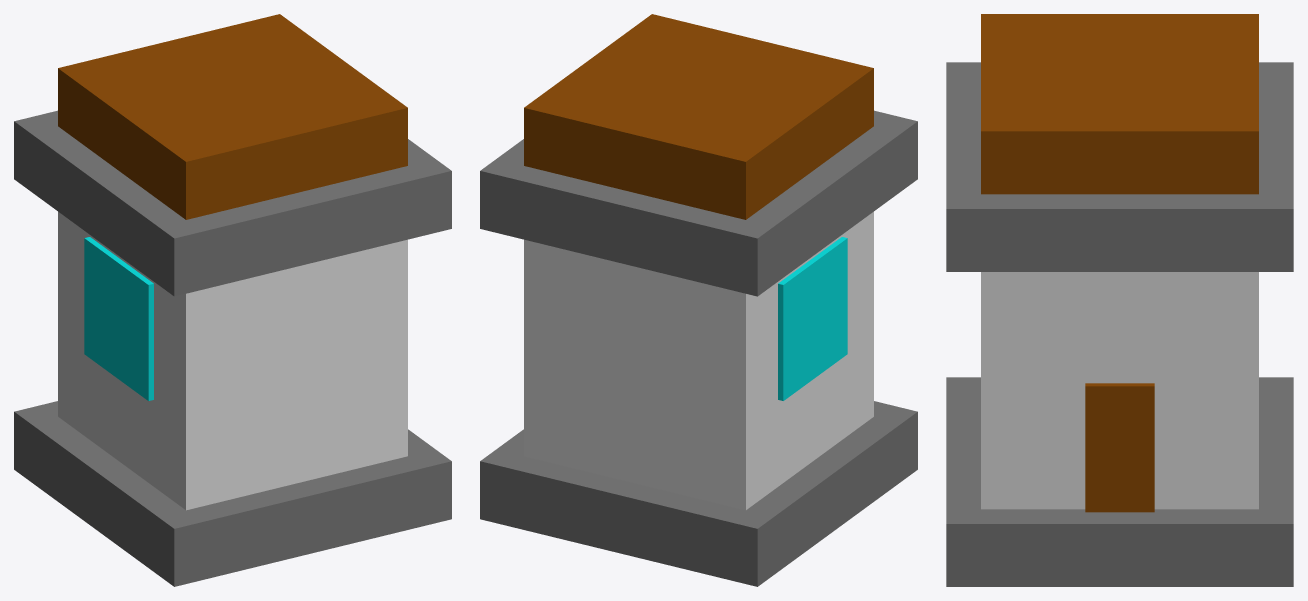
Rendered from house.fbx.
The picture shows the model from 3 angles, left to right: view 1: azimuth 30°, elevation 25°; view 2: azimuth 150°, elevation 25°; view 3: azimuth 270°, elevation 25°; orthographic projection. The views are drawn at different scales.
Visible parts, largest first — view 1: house01:pCube2, house01:pCube6, house01:pCube1, house01:pCube3, house01:pCube5; view 2: house01:pCube2, house01:pCube6, house01:pCube1, house01:pCube3, house01:pCube5; view 3: house01:pCube2, house01:pCube6, house01:pCube3, house01:pCube1, house01:pCube4.
Boxes of the visible parts, bbox=[...] form: house01:pCube2: bbox=[58, 211, 407, 510]; house01:pCube6: bbox=[58, 14, 407, 219]; house01:pCube1: bbox=[14, 401, 451, 586]; house01:pCube3: bbox=[14, 110, 451, 296]; house01:pCube5: bbox=[84, 237, 153, 400]; house01:pCube2: bbox=[524, 211, 873, 510]; house01:pCube6: bbox=[524, 14, 873, 219]; house01:pCube1: bbox=[480, 401, 917, 586]; house01:pCube3: bbox=[480, 110, 917, 296]; house01:pCube5: bbox=[778, 237, 847, 400]; house01:pCube2: bbox=[981, 272, 1258, 509]; house01:pCube6: bbox=[981, 14, 1258, 194]; house01:pCube3: bbox=[946, 62, 1293, 271]; house01:pCube1: bbox=[946, 377, 1293, 586]; house01:pCube4: bbox=[1085, 383, 1154, 512].
Size of the model in its own units: 200 by 280 by 200.
